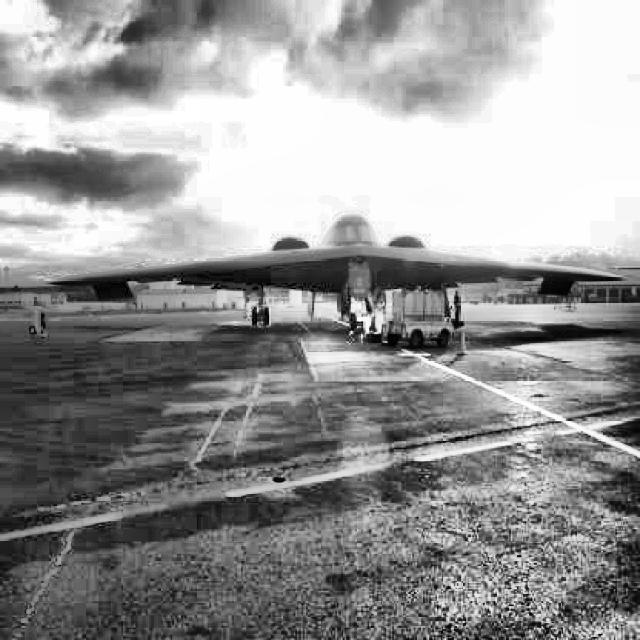B2: (44, 214, 627, 335)
